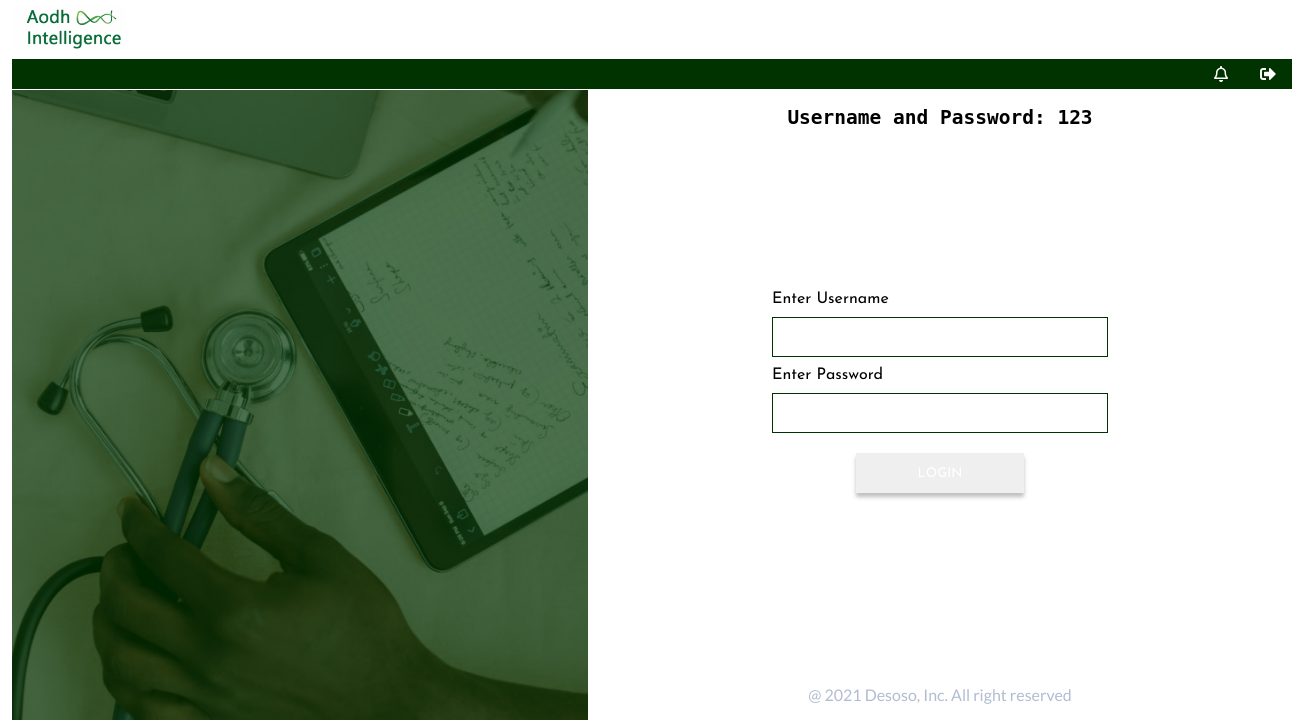
Test: Is password validation working
In the field labelled "Enter Username": (940, 337) [772,317,1108,357], type "a"
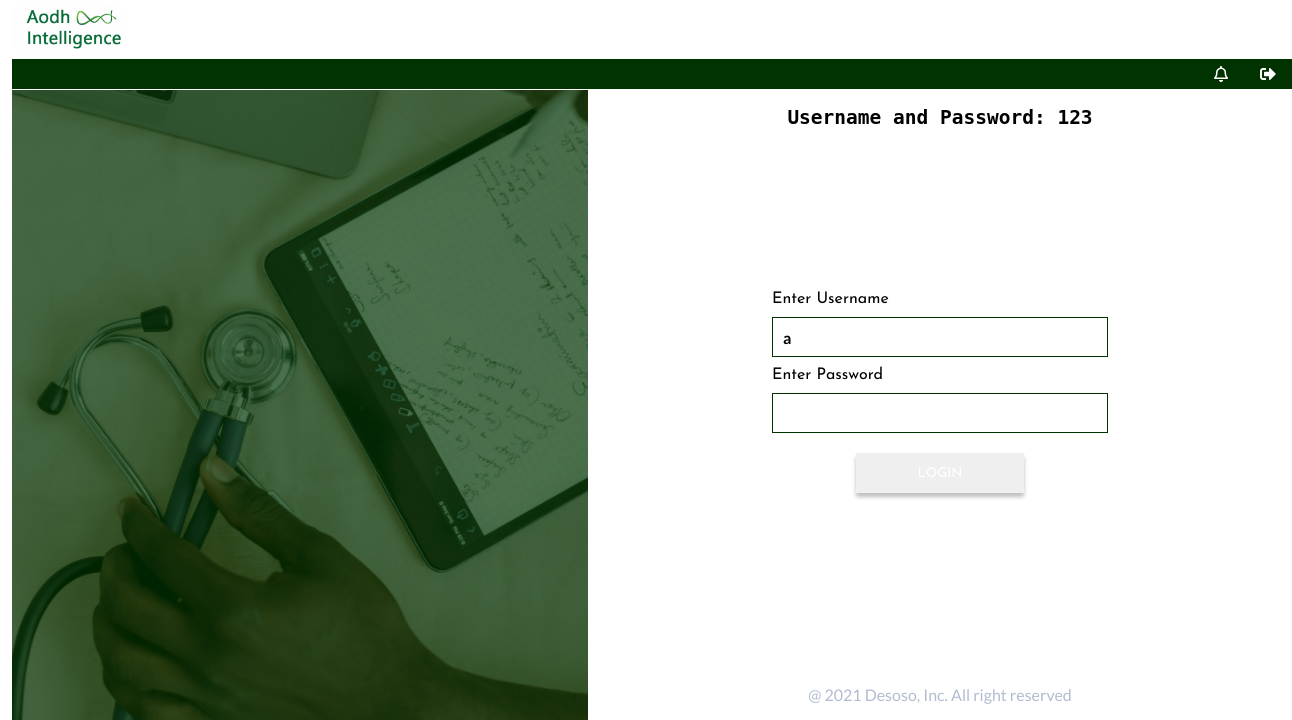
In the password field labelled "Enter Password": (940, 413) [772,393,1108,433], type "a"
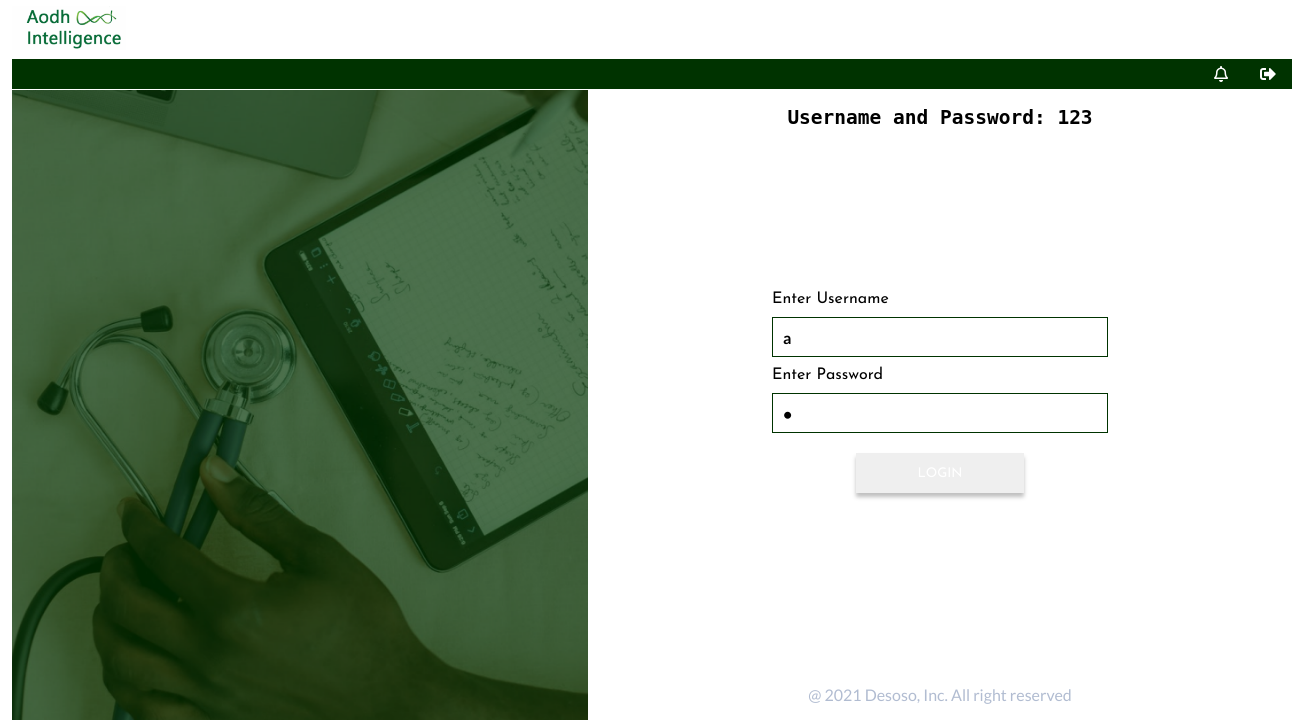
Click the button "LOGIN": (940, 473) [856,453,1024,493]
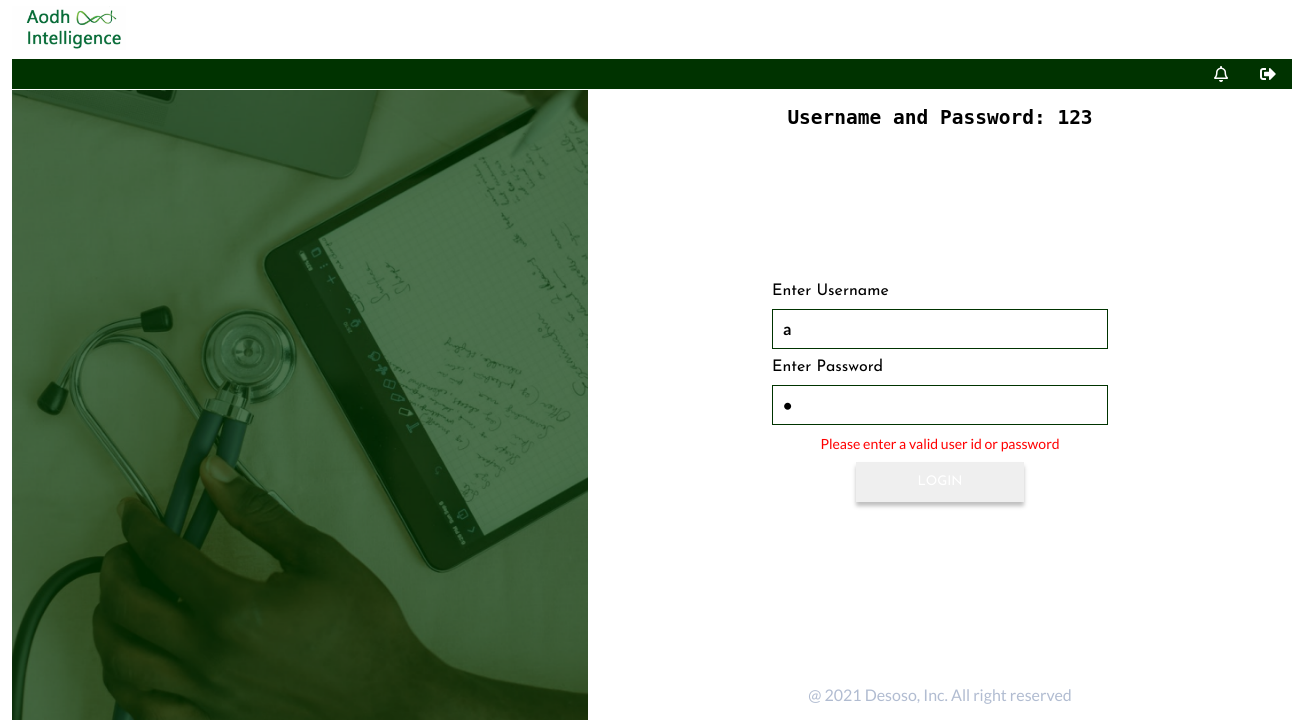
Check: the message reads "Please enter a valid user id or password", box [820,434,1060,452]
